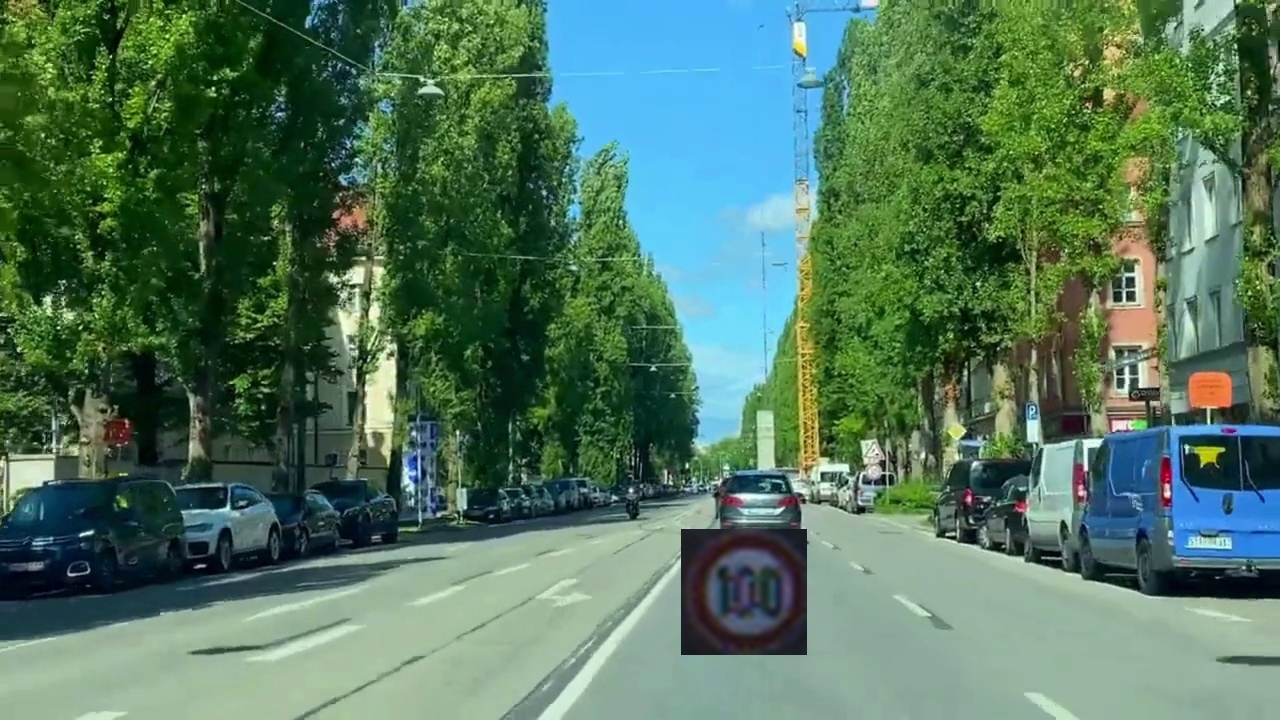Speed 100: (681, 529, 807, 655)
